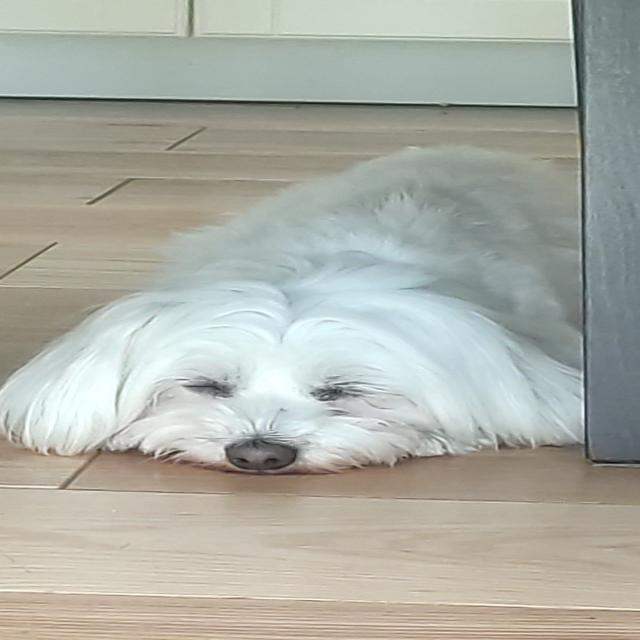maltese: (0, 142, 603, 474)
